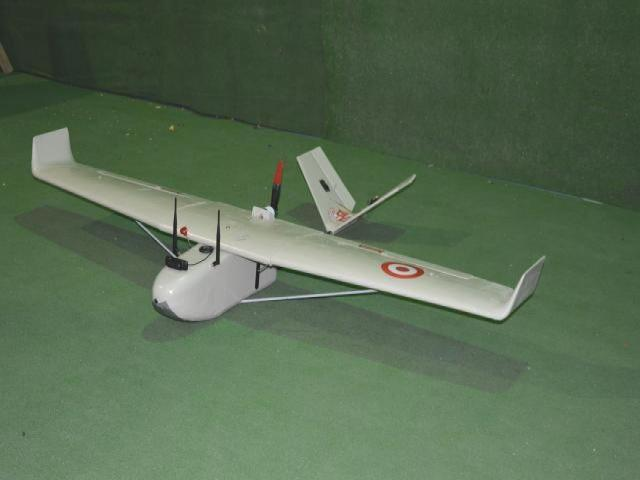iha: (27, 123, 548, 328)
